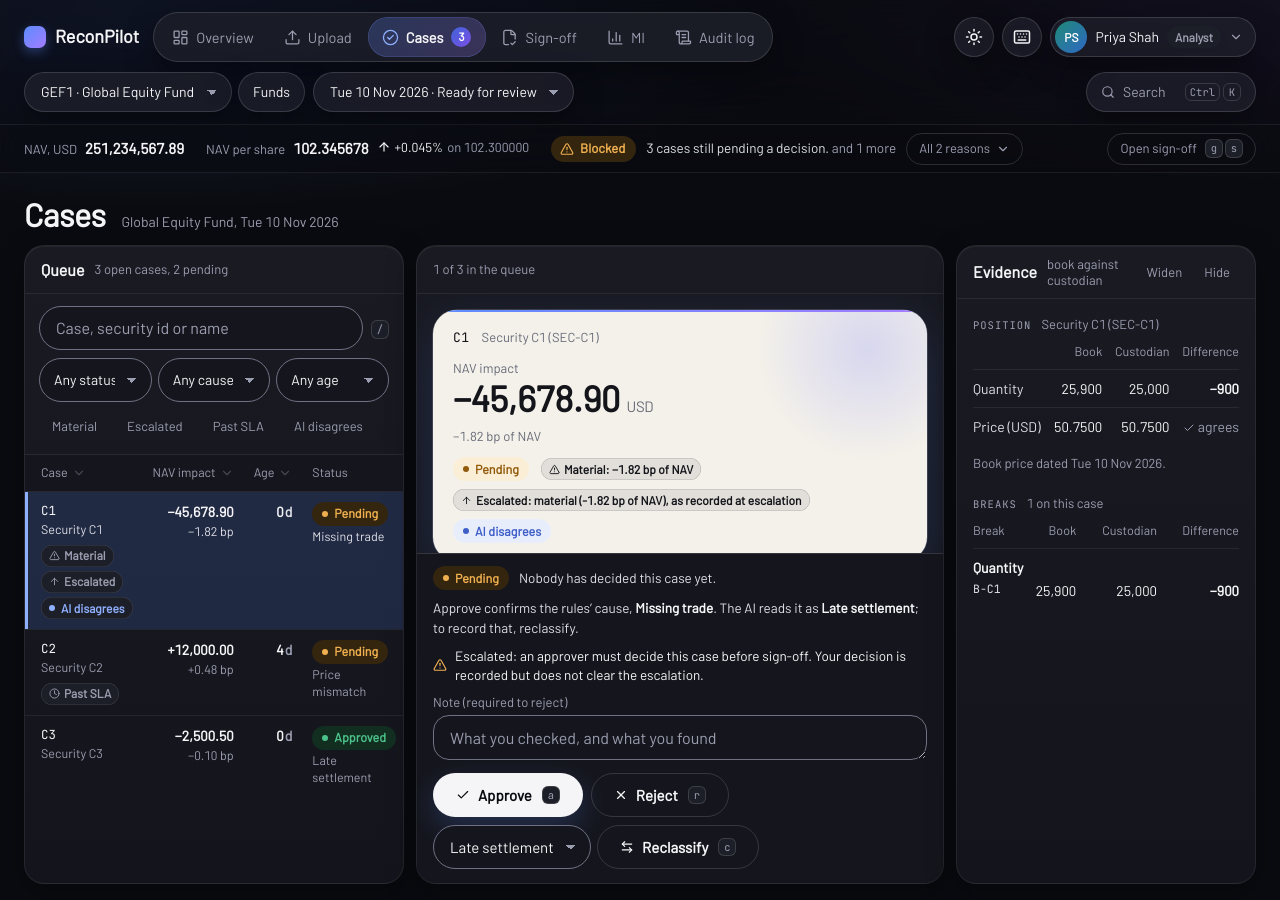
it: case workbench › says plainly when someone else decided first, shows their decision and keeps the note
Type "My reasoning." into the text box labelled "Note (required to reject)".
click(680, 737); type("My reasoning.")  # box [433, 715, 927, 760]
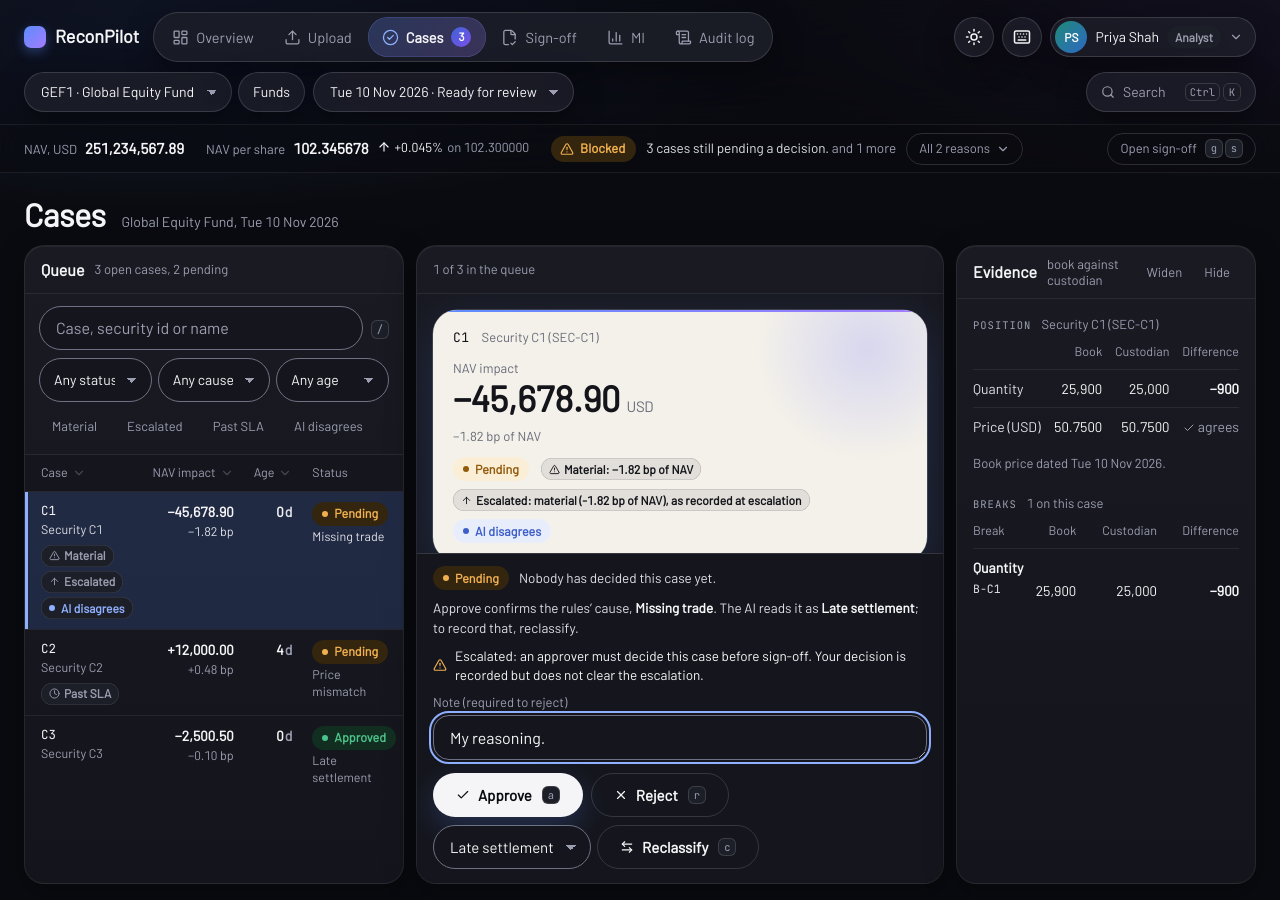
Click the button "Approve a".
click(508, 795)  # box [433, 773, 583, 817]
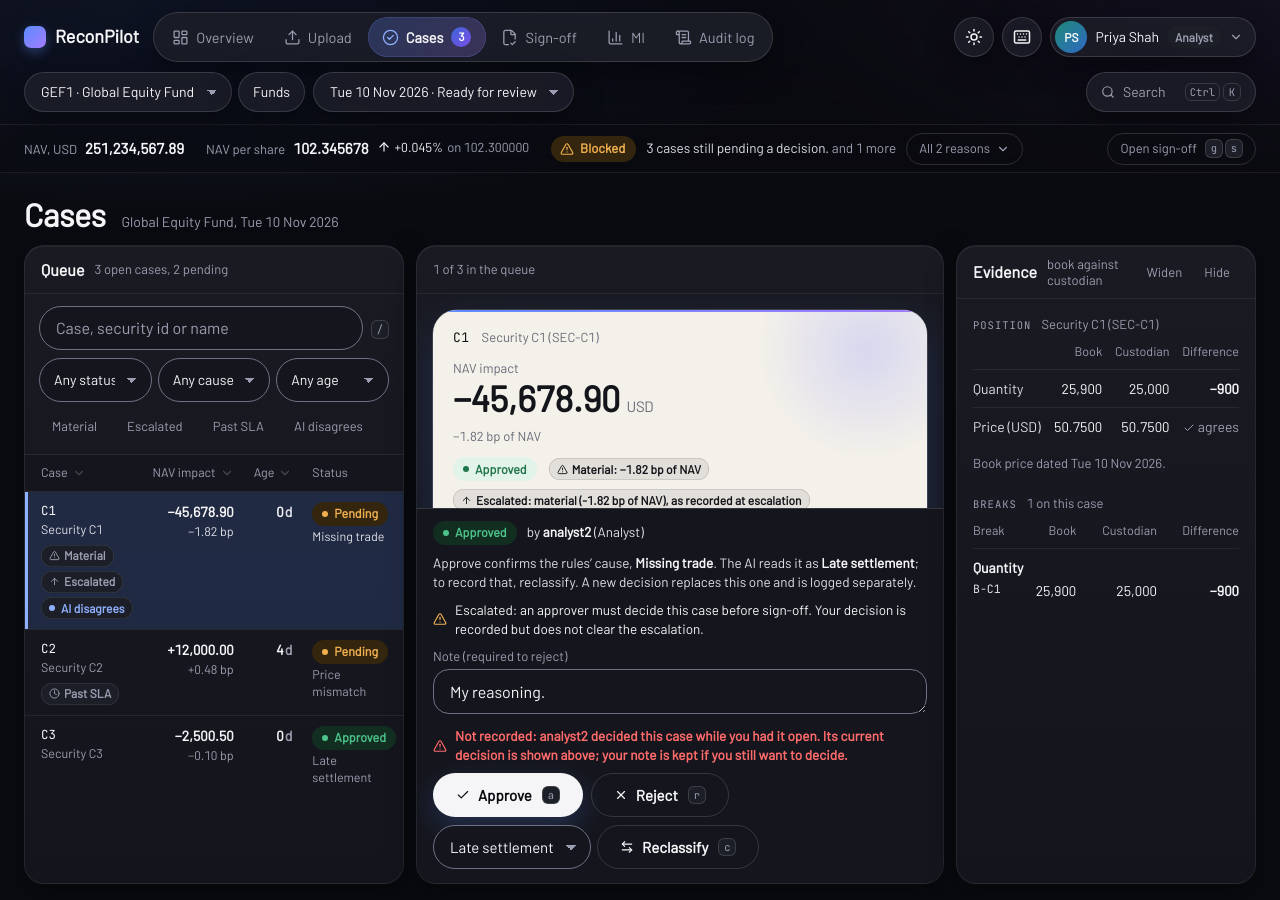
Check: the message shows "Not recorded", box [455, 727, 884, 763]
Check: the text "analyst2" is shown, box [543, 523, 591, 540]
